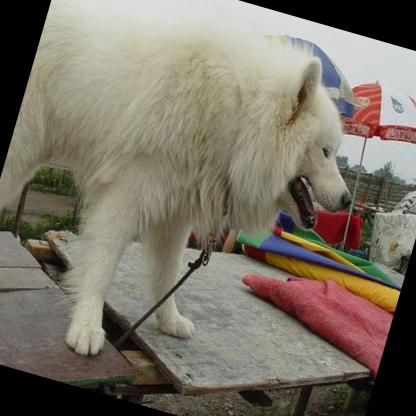Samoyed: (0, 0, 392, 416)
